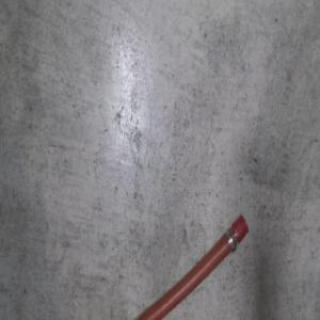Hosetrack_idkeyframe: (119, 210, 248, 319)
